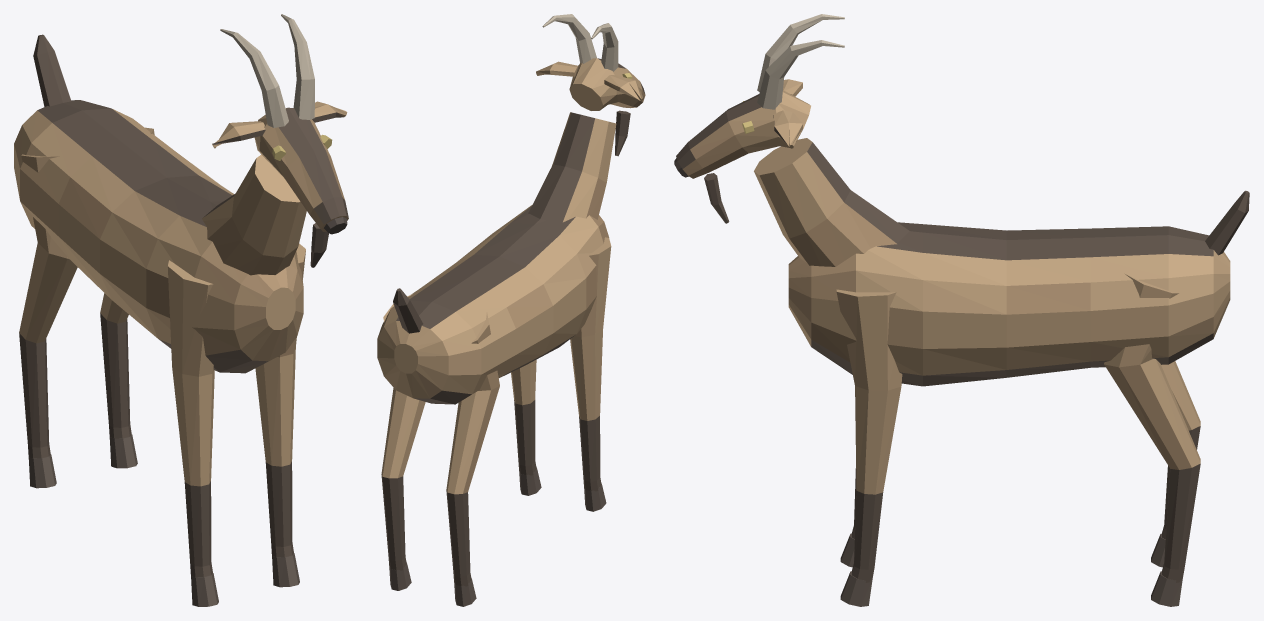
File: goat.glb
The picture shows the model from 3 angles, left to right: view 1: azimuth 30°, elevation 25°; view 2: azimuth 150°, elevation 25°; view 3: azimuth 270°, elevation 25°; orthographic projection. The views are drawn at different scales.
Visible parts, largest first — view 1: Body, Leg.FR, Head.Neck, Leg.BR, Leg.FL, Head.Skull, Leg.BL, Head.Horn#2, Head.Horn, Body.Tail, Head.Ear#2, Leg.BL.Hoof (+5 smaller); view 2: Body, Head.Neck, Leg.BR, Leg.FR, Leg.BL, Head.Skull, Leg.FL, Head.Horn, Body.Tail, Head.Horn#2, Head.Ear#2, Head.Beard (+5 smaller); view 3: Body, Head.Neck, Leg.FL, Leg.BL, Head.Skull, Head.Horn, Leg.BR, Body.Tail, Head.Horn#2, Head.Ear, Leg.FL.Hoof, Leg.BL.Hoof.
Part boxes in pixels (bbox=[...]): Body: bbox=[14, 100, 303, 373]; Leg.FR: bbox=[167, 260, 214, 577]; Head.Neck: bbox=[202, 154, 306, 275]; Leg.BR: bbox=[19, 154, 77, 458]; Leg.FL: bbox=[255, 243, 305, 557]; Head.Skull: bbox=[254, 107, 348, 231]; Leg.BL: bbox=[100, 127, 154, 439]; Head.Horn#2: bbox=[220, 29, 288, 127]; Head.Horn: bbox=[281, 14, 314, 119]; Body.Tail: bbox=[33, 34, 71, 106]; Head.Ear#2: bbox=[212, 121, 265, 148]; Leg.BL.Hoof: bbox=[109, 434, 137, 468]; Body: bbox=[377, 205, 609, 404]; Head.Neck: bbox=[528, 112, 616, 222]; Leg.BR: bbox=[446, 312, 499, 586]; Leg.FR: bbox=[570, 237, 611, 491]; Leg.BL: bbox=[381, 294, 425, 570]; Head.Skull: bbox=[569, 58, 645, 110]; Leg.FL: bbox=[511, 359, 536, 475]; Head.Horn: bbox=[542, 14, 596, 63]; Body.Tail: bbox=[393, 288, 423, 333]; Head.Horn#2: bbox=[591, 23, 618, 71]; Head.Ear#2: bbox=[604, 75, 643, 100]; Head.Beard: bbox=[615, 110, 630, 156]; Body: bbox=[788, 222, 1230, 386]; Head.Neck: bbox=[754, 138, 909, 266]; Leg.FL: bbox=[836, 289, 902, 582]; Leg.BL: bbox=[1104, 274, 1200, 582]; Head.Skull: bbox=[676, 90, 810, 178]; Head.Horn: bbox=[757, 40, 844, 109]; Leg.BR: bbox=[1161, 361, 1200, 539]; Body.Tail: bbox=[1205, 190, 1249, 255]; Head.Horn#2: bbox=[757, 14, 844, 91]; Head.Ear: bbox=[773, 110, 802, 148]; Leg.FL.Hoof: bbox=[840, 571, 872, 606]; Leg.BL.Hoof: bbox=[1151, 571, 1182, 606].
Bounding box in the file's own units: 0.2648 × 1.1 × 1.03.
